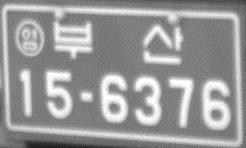-: (78, 88, 94, 107)
1: (14, 67, 37, 118)
3: (132, 74, 164, 127)
5: (42, 69, 75, 121)
6: (99, 70, 130, 124), (201, 78, 231, 131)
7: (167, 77, 195, 130)
부산_D: (51, 18, 185, 68)
영: (14, 17, 46, 58)
